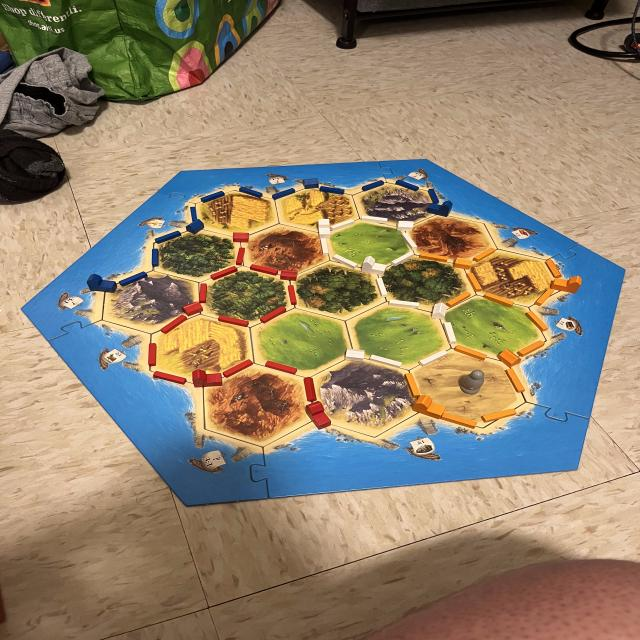blue-city: (85, 274, 118, 292), (426, 200, 452, 218)
blue-road: (120, 271, 147, 287), (199, 190, 226, 204), (239, 187, 263, 199), (273, 188, 298, 199), (362, 180, 384, 192), (395, 180, 418, 191), (156, 231, 179, 242), (320, 186, 345, 196), (151, 248, 160, 266), (428, 188, 438, 204), (190, 206, 200, 222)
blue-settlement: (187, 219, 204, 234), (302, 177, 319, 189)
orange-city: (412, 395, 446, 418), (552, 276, 582, 294)
orange-road: (454, 344, 488, 360), (441, 413, 476, 428), (504, 367, 524, 392), (481, 408, 516, 422), (526, 311, 548, 332), (404, 372, 422, 397), (518, 340, 546, 356), (483, 292, 513, 306), (418, 251, 449, 263), (534, 288, 554, 306), (465, 271, 482, 292), (474, 248, 497, 262), (448, 292, 471, 306), (544, 260, 561, 277)
orange-settlement: (499, 350, 521, 368), (452, 257, 474, 270)
red-city: (305, 401, 331, 429), (193, 369, 222, 388)
red-road: (159, 315, 187, 334), (265, 359, 298, 375), (260, 305, 286, 324), (224, 361, 255, 376), (154, 370, 186, 384), (210, 266, 238, 280), (217, 315, 249, 327), (249, 263, 278, 276), (302, 377, 317, 401), (197, 284, 209, 303), (147, 343, 156, 366), (288, 284, 297, 305), (237, 248, 246, 266)
red-settlement: (183, 302, 203, 316), (280, 269, 299, 281), (232, 233, 250, 242)
white-city: (362, 256, 386, 275), (318, 218, 332, 240)
white-road: (418, 350, 448, 365), (333, 252, 359, 268), (370, 354, 402, 367), (391, 252, 414, 266), (360, 214, 388, 224), (330, 219, 355, 230), (375, 277, 388, 298), (444, 322, 456, 344), (401, 233, 418, 248), (388, 300, 419, 308), (319, 237, 330, 256)
white-settlement: (430, 302, 447, 320), (345, 347, 365, 362), (395, 220, 415, 232)
